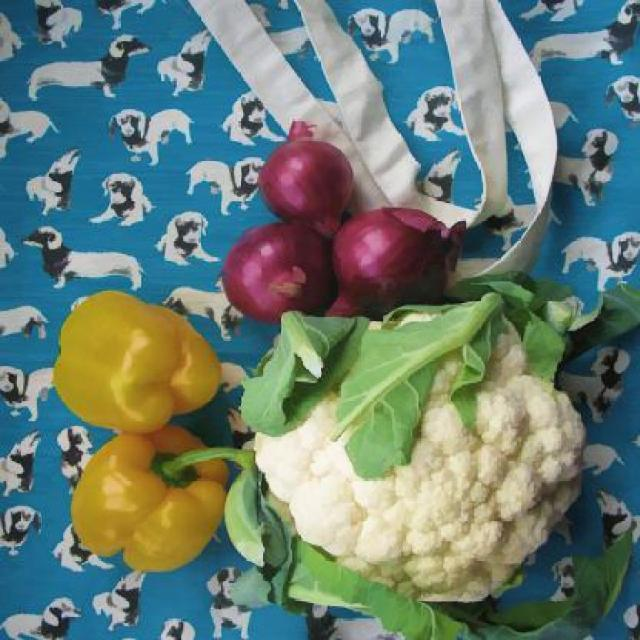Bell pepper: (72, 426, 254, 572), (52, 292, 222, 434)
